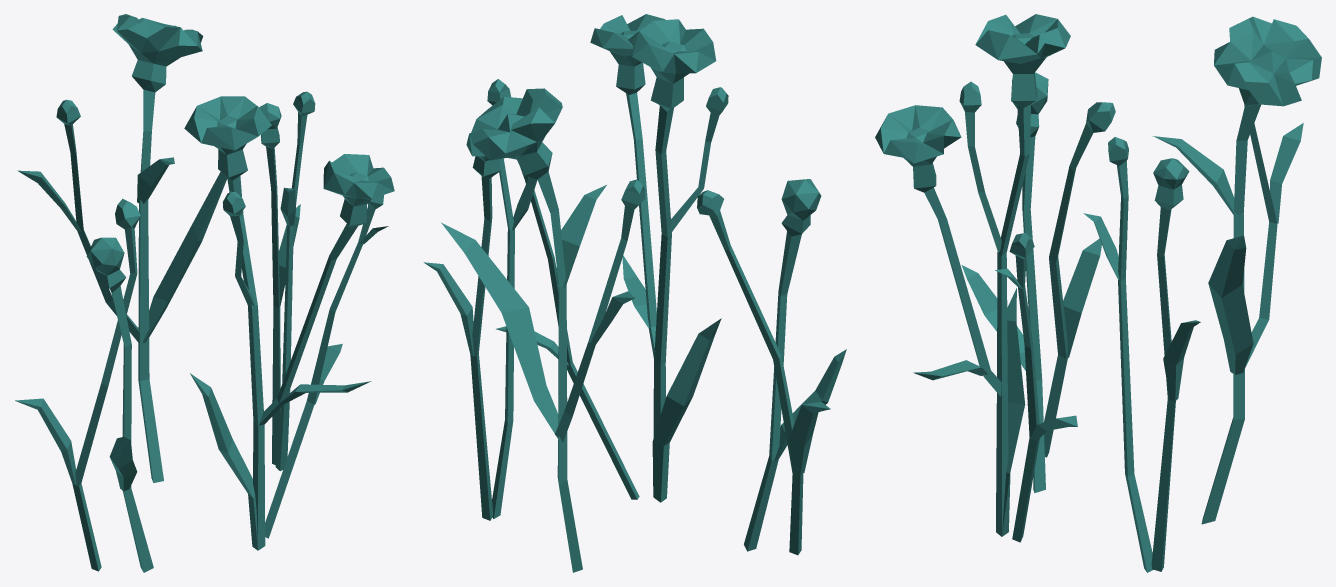
File: SM_Flower_Cornflower_Mature.fbx
3 renders of one model, left to right at view 1: azimuth 30°, elevation 25°; view 2: azimuth 150°, elevation 25°; view 3: azimuth 270°, elevation 25°, orthographic. The views are drawn at different scales.
Visible parts, largest first — view 1: flower-cornflower-mature; view 2: flower-cornflower-mature; view 3: flower-cornflower-mature.
Boxes of the visible parts, x1,y1,x2,y2 form: flower-cornflower-mature: (15,14,394,572); flower-cornflower-mature: (423,14,846,572); flower-cornflower-mature: (875,14,1321,572).
Size of the model in its own units: 0.4873 by 0.6403 by 0.4936.
